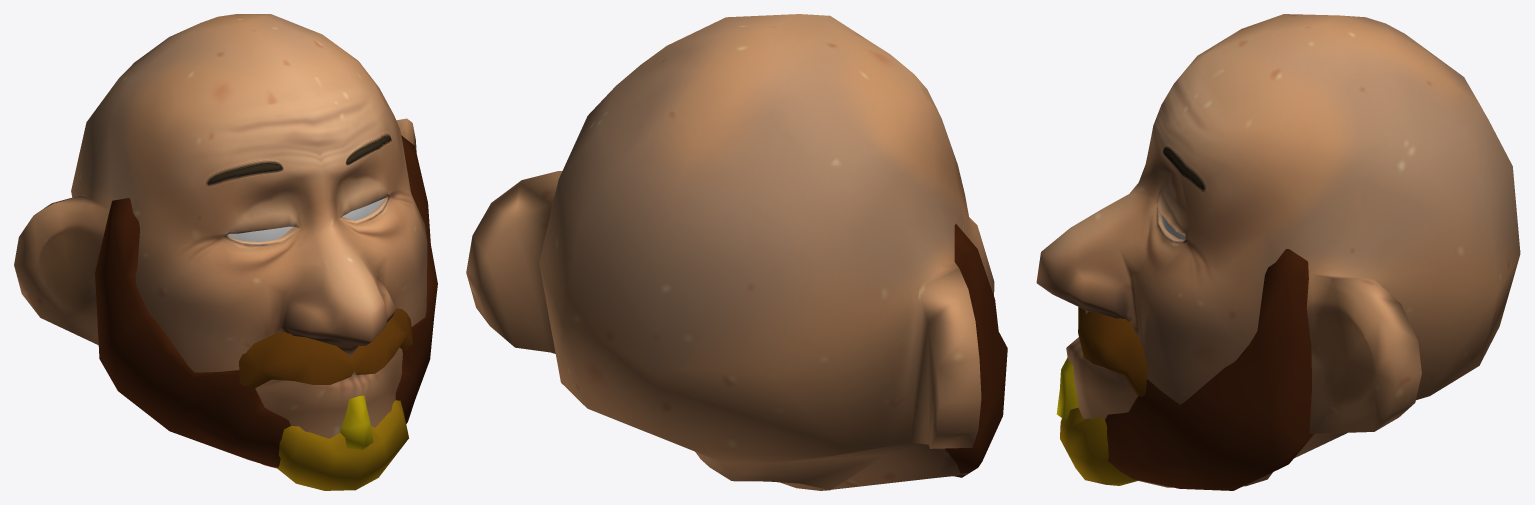
The model's file is E_pose03.fbx.
The picture shows the model from 3 angles, left to right: view 1: azimuth 30°, elevation 25°; view 2: azimuth 150°, elevation 25°; view 3: azimuth 270°, elevation 25°; orthographic projection. The views are drawn at different scales.
Visible parts, largest first — view 1: HEAD, BEARD; view 2: HEAD, BEARD; view 3: HEAD, BEARD.
Boxes of the visible parts, <box> form: HEAD: <box>14,14,427,468</box>; BEARD: <box>95,135,437,490</box>; HEAD: <box>466,14,994,490</box>; BEARD: <box>945,224,1007,477</box>; HEAD: <box>1036,14,1520,487</box>; BEARD: <box>1056,248,1313,490</box>.
Bounding box in the file's own units: 27.45 × 25.57 × 24.9.
